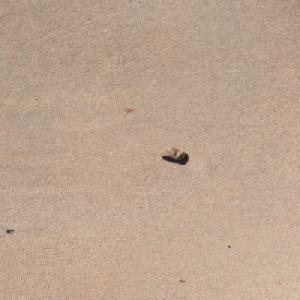Rock: (157, 146, 186, 160)
